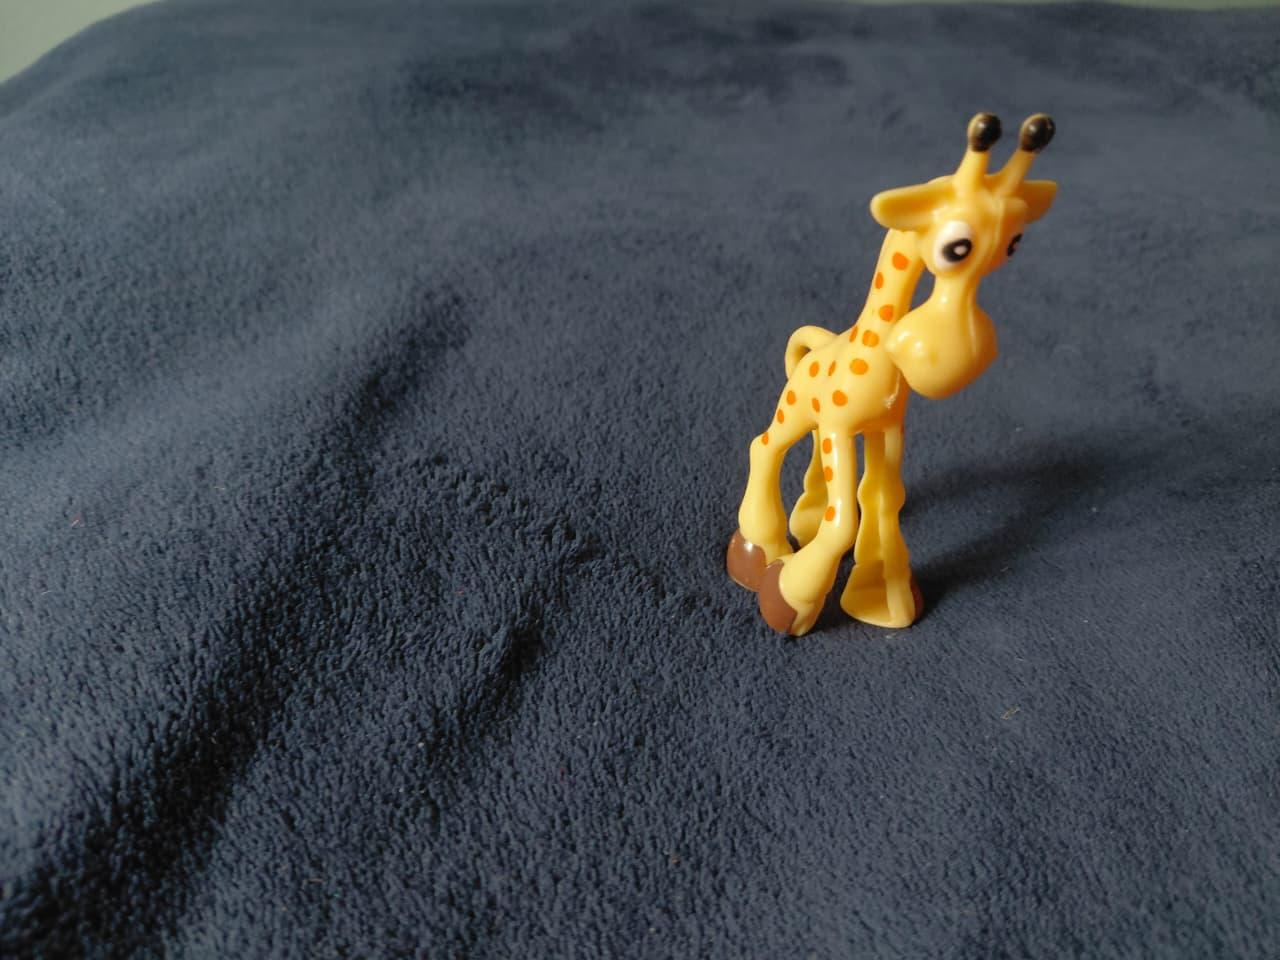giraffe: (714, 91, 1059, 642)
